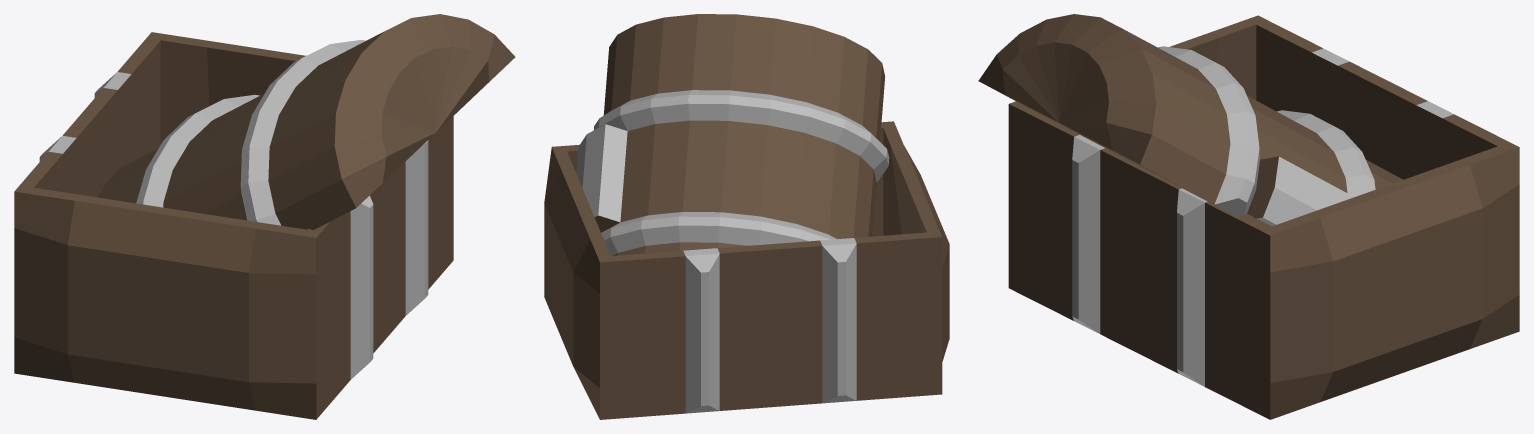
File: Chest(Pickup).fbx
The picture shows the model from 3 angles, left to right: view 1: azimuth 30°, elevation 25°; view 2: azimuth 150°, elevation 25°; view 3: azimuth 270°, elevation 25°; orthographic projection. The views are drawn at different scales.
Parts seen in each view (by area): view 1: Chest_Pickup_; view 2: Chest_Pickup_; view 3: Chest_Pickup_.
Boxes of the visible parts, x1,y1,x2,y2 form: Chest_Pickup_: [14, 14, 515, 419]; Chest_Pickup_: [544, 14, 949, 419]; Chest_Pickup_: [978, 14, 1519, 419].
Bounding box in the file's own units: 51.21 × 34.8 × 53.22.
